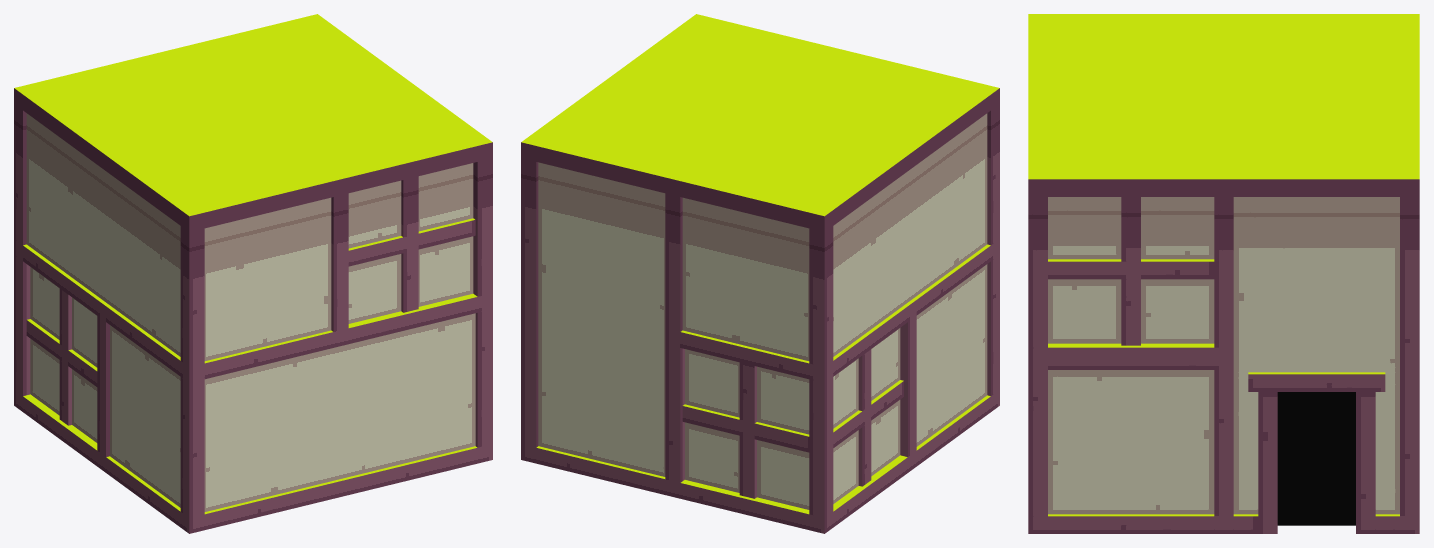
Rendered from windmill_core_cao.fezao.glb.
3 views of the same model, side by side, from view 1: azimuth 30°, elevation 25°; view 2: azimuth 150°, elevation 25°; view 3: azimuth 270°, elevation 25° (orthographic). The views are drawn at different scales.
Parts seen in each view (by area): view 1: WINDMILL_CORE_CAO; view 2: WINDMILL_CORE_CAO; view 3: WINDMILL_CORE_CAO.
Part boxes in pixels (x1,y1,x2,y2): WINDMILL_CORE_CAO: (14, 14, 492, 533); WINDMILL_CORE_CAO: (521, 14, 999, 533); WINDMILL_CORE_CAO: (1028, 14, 1419, 533).
Size of the model in its own units: 5 by 5 by 5.
Materials: 1 (1 with a texture image).
